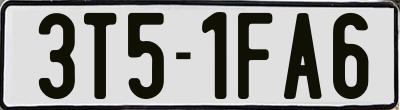1: (202, 10, 230, 102)
3: (39, 12, 75, 103)
5: (125, 10, 161, 97)
6: (332, 11, 373, 103)
A: (284, 12, 327, 98)
F: (235, 12, 274, 102)
T: (83, 11, 121, 98)
